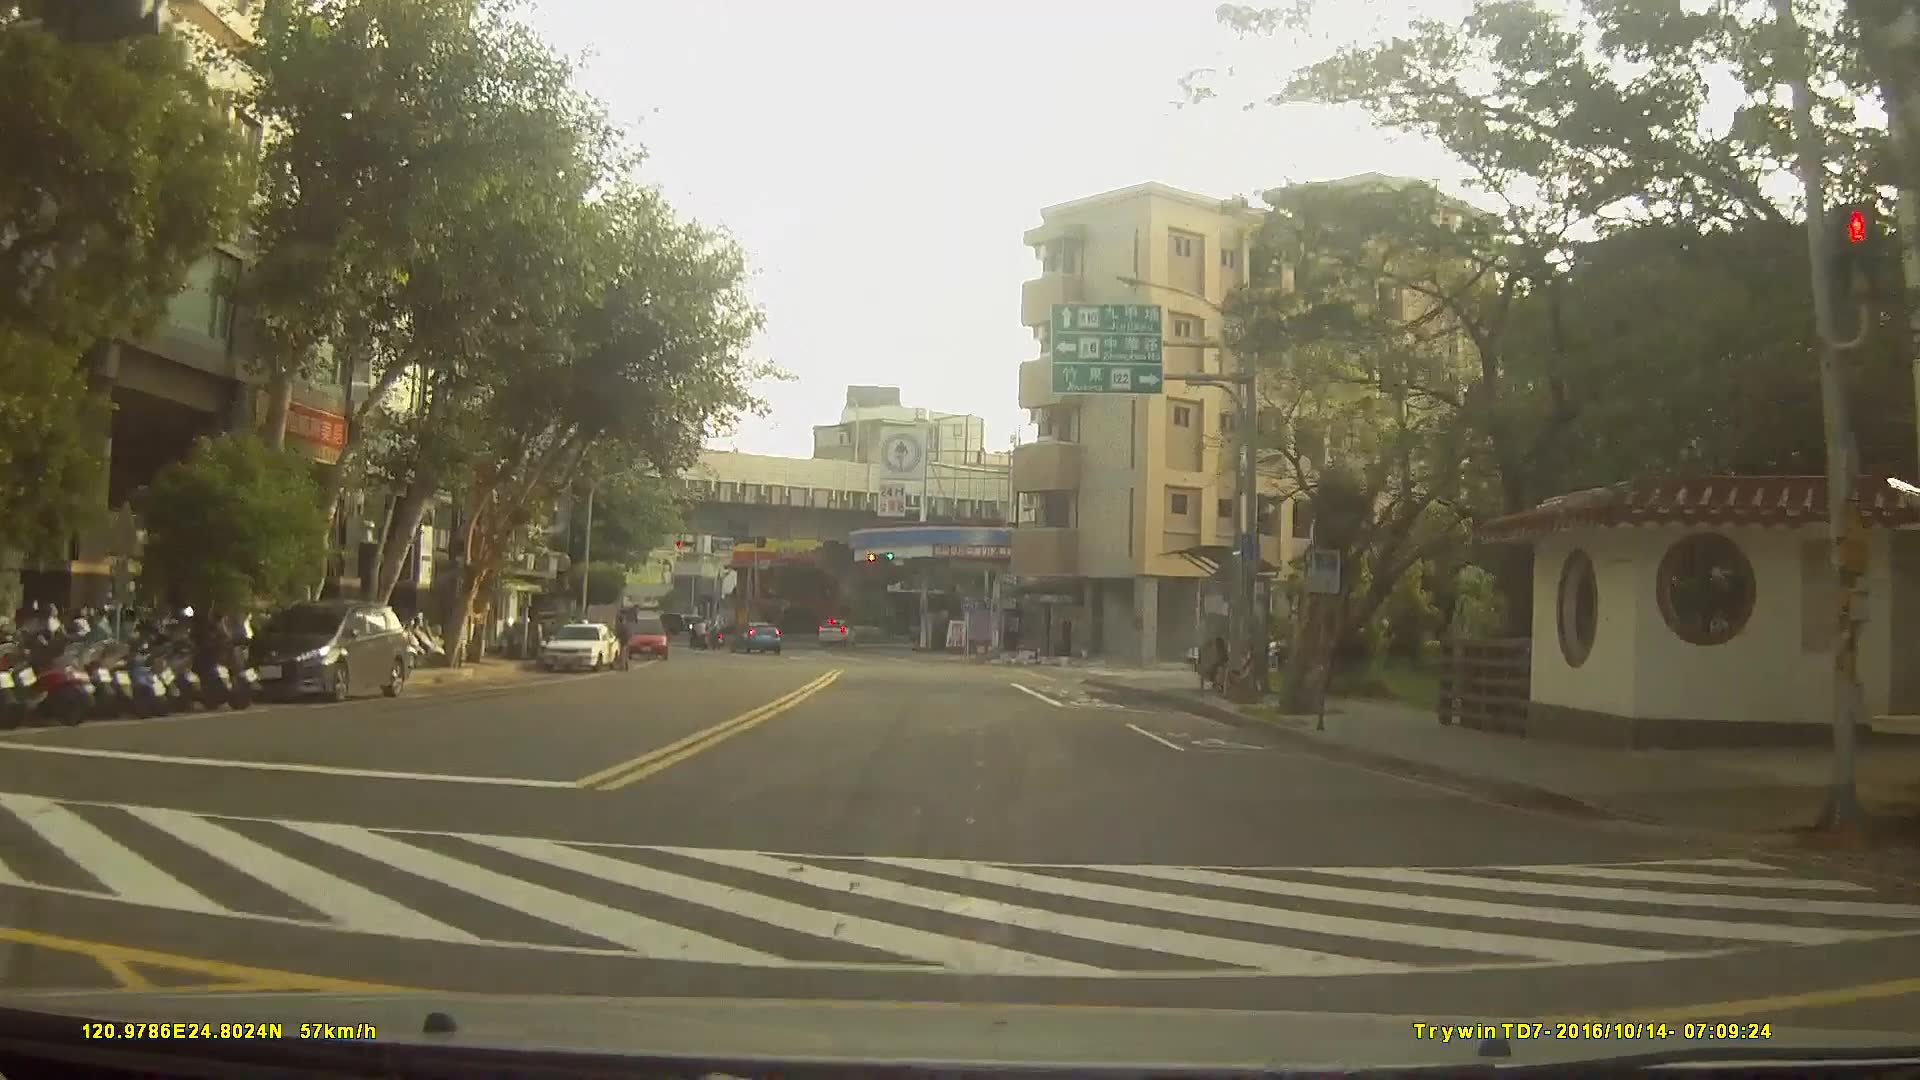rider: (686, 616, 711, 651)
vehicle: (240, 596, 409, 700), (540, 619, 622, 673), (728, 617, 782, 650), (625, 614, 669, 655), (817, 612, 858, 640)
